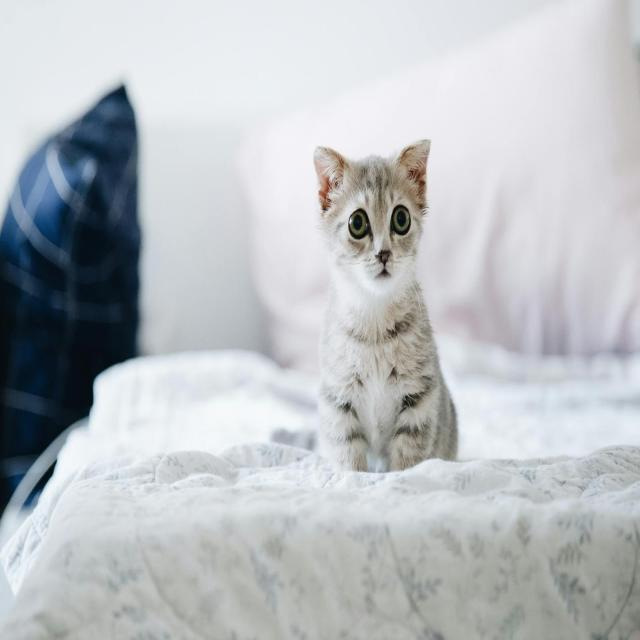Cat: (312, 138, 459, 473)
